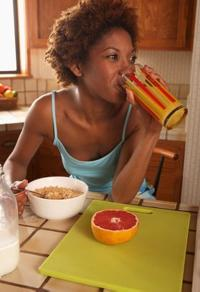person: (3, 1, 169, 204)
